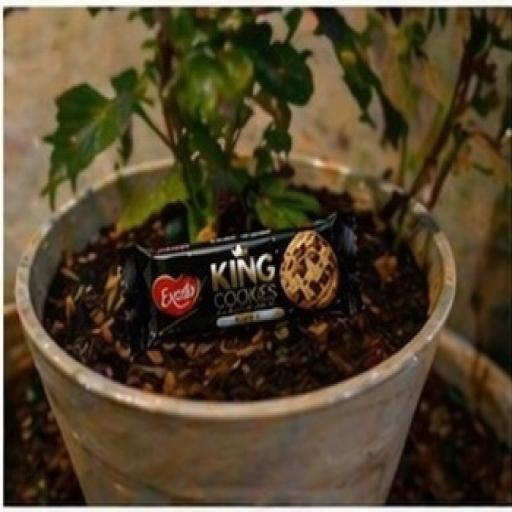king-cooking: (101, 180, 399, 376)
